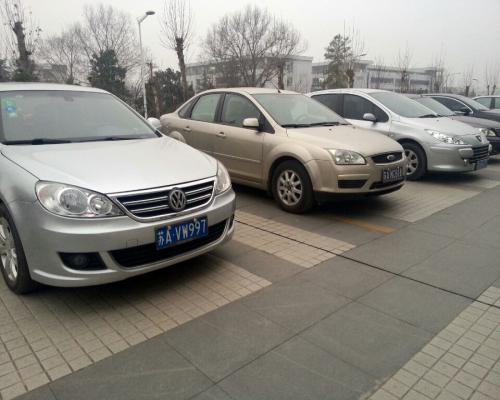Carplate: (151, 215, 210, 249), (377, 164, 406, 185)
